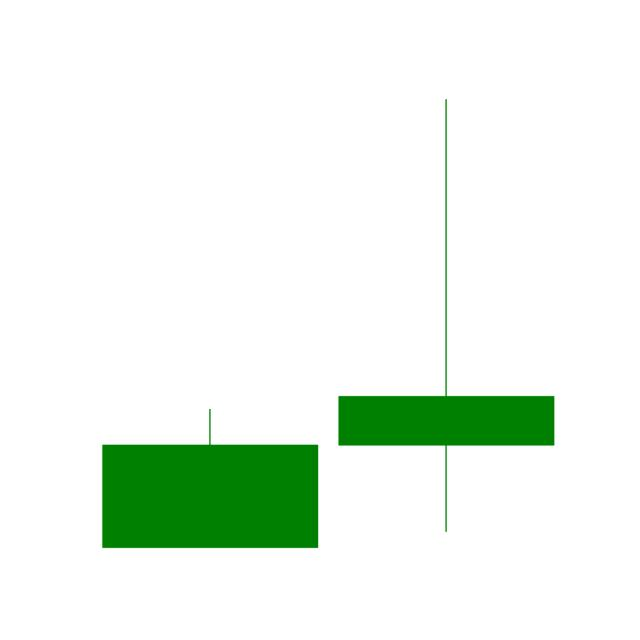Gravenstone Doji: (335, 99, 559, 537)
Inverted Hammer: (100, 403, 321, 553)
